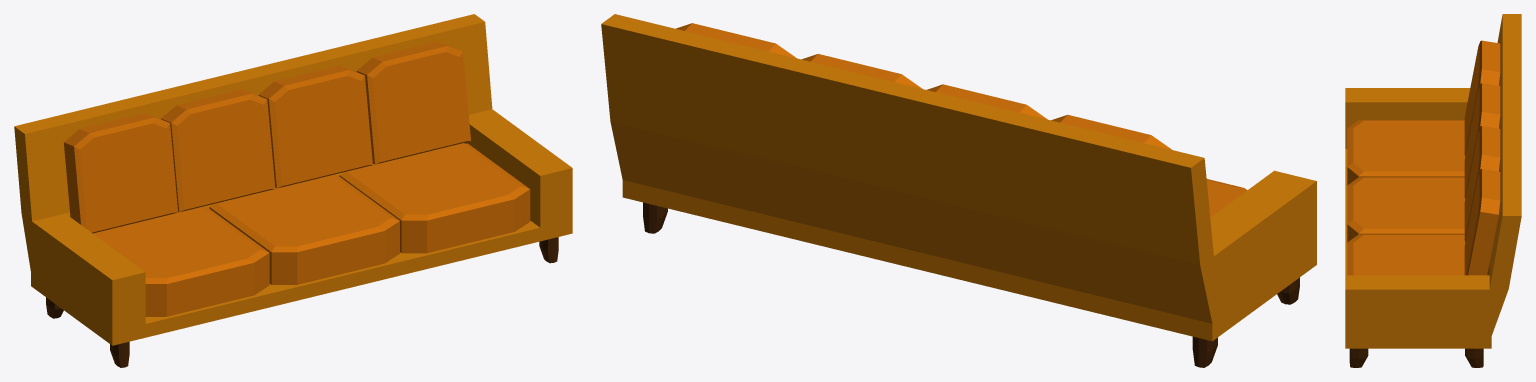
Rendered from Couch.fbx.
3 views of the same model, side by side, from view 1: azimuth 30°, elevation 25°; view 2: azimuth 150°, elevation 25°; view 3: azimuth 270°, elevation 25° (orthographic). The views are drawn at different scales.
Visible parts, largest first — view 1: Couch; view 2: Couch; view 3: Couch.
Part boxes in pixels (x1=…): Couch: x1=14, y1=14, x2=572, y2=367; Couch: x1=601, y1=14, x2=1316, y2=367; Couch: x1=1345, y1=14, x2=1521, y2=367.
Size of the model in its own units: 574 by 208 by 212.
